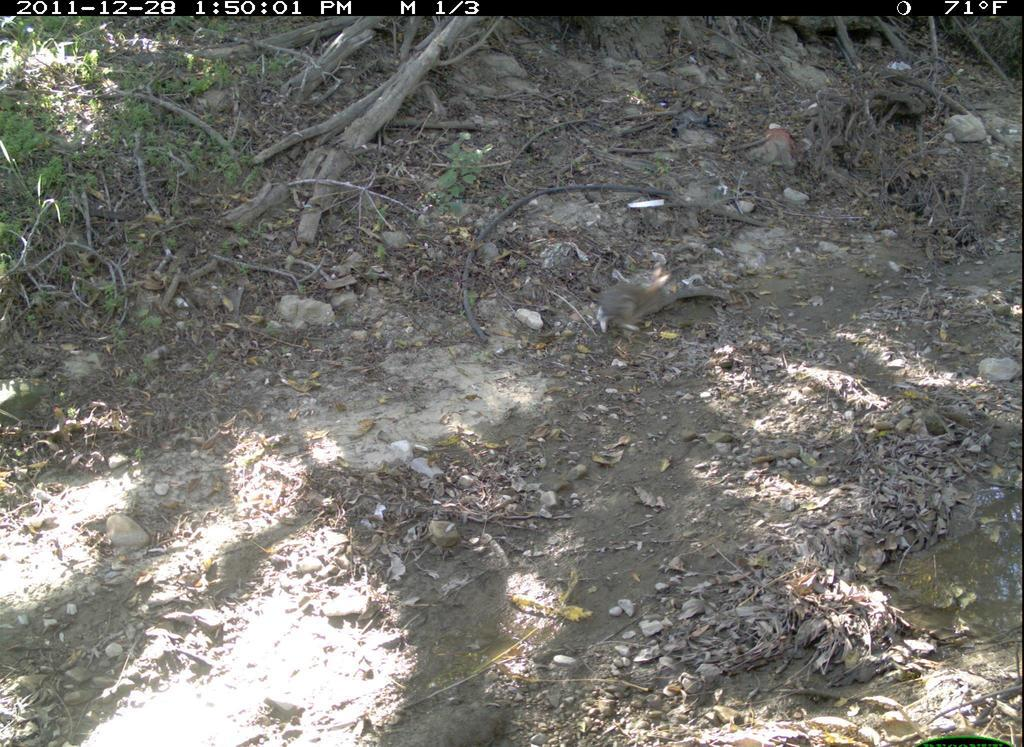rabbit: (582, 257, 748, 341)
